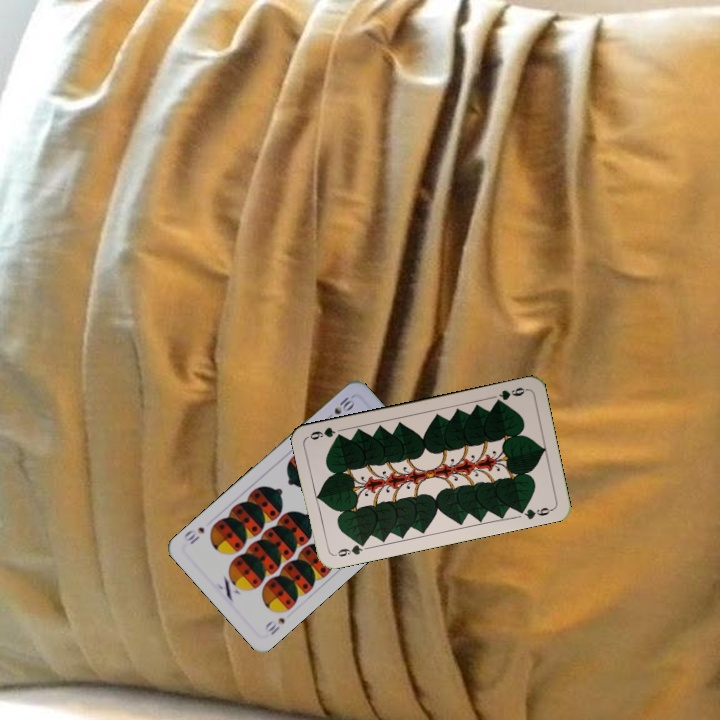G9: (491, 383, 529, 406), (330, 538, 369, 559)
S10: (322, 393, 357, 423), (260, 614, 288, 638)
